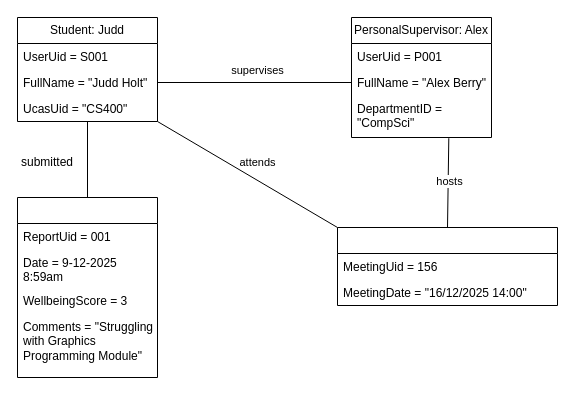
Some shapes in this 575 by 398 pixel diagram are drawn without their labels. The shapes that lost their labels are listed below. From the top down, each one's box as (x1, y1, x2, y2) in pixels, then its label:
(336, 226, 558, 306): Meeting: Judd and Alex
(16, 196, 158, 378): Report_01: SelfReport
